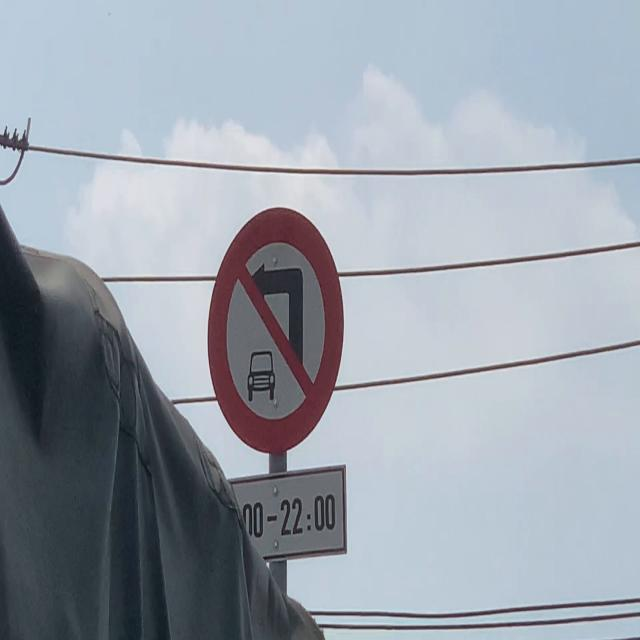Cam re trai: (210, 204, 347, 454)
